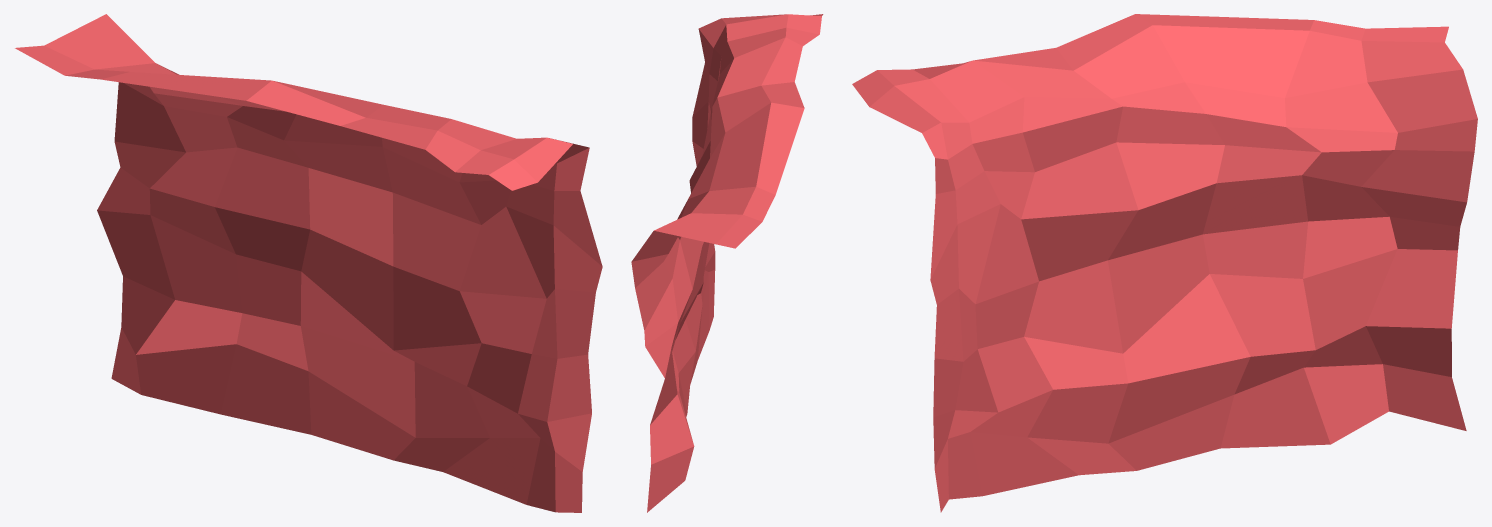
File: relief.low.32.fbx
3 renders of one model, left to right at view 1: azimuth 30°, elevation 25°; view 2: azimuth 150°, elevation 25°; view 3: azimuth 270°, elevation 25°, orthographic. The views are drawn at different scales.
Visible parts, largest first — view 1: relief.low.32; view 2: relief.low.32; view 3: relief.low.32.
Boxes of the visible parts, left/top/right/bottom form: relief.low.32: left=15, top=14, right=602, bottom=512; relief.low.32: left=631, top=14, right=823, bottom=512; relief.low.32: left=852, top=14, right=1477, bottom=512.
Size of the model in its own units: 327 by 403 by 564.
